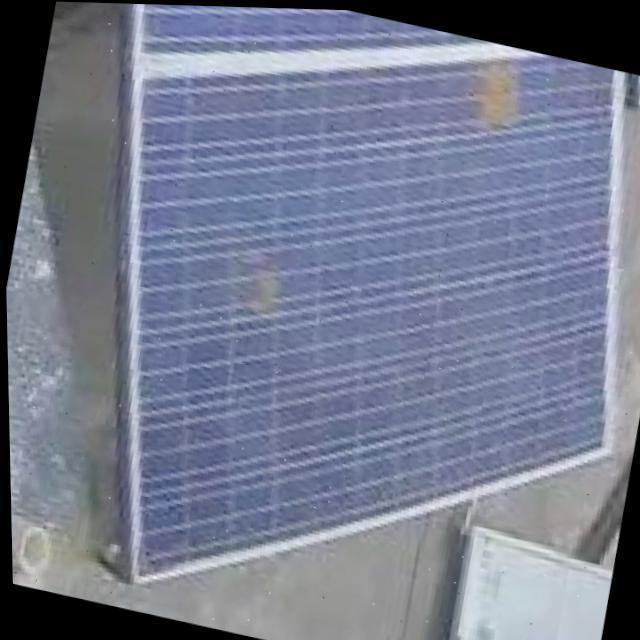Anomaly Solar Panel: (82, 51, 640, 579)
Surface Contaminant: (465, 49, 545, 138), (235, 256, 300, 321)
